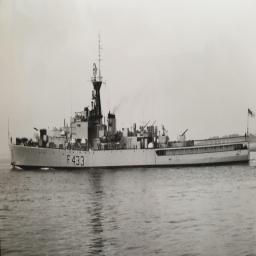Fragata: (8, 30, 252, 173)
